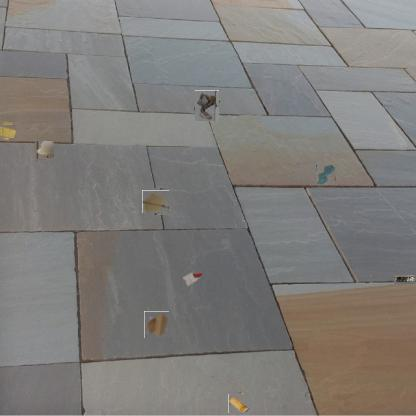dirty: (194, 92, 221, 120), (144, 311, 169, 338), (229, 393, 250, 414), (180, 269, 202, 287), (34, 141, 53, 160), (0, 122, 15, 139), (394, 274, 416, 284)
liquid: (143, 189, 168, 214), (316, 165, 336, 183)
